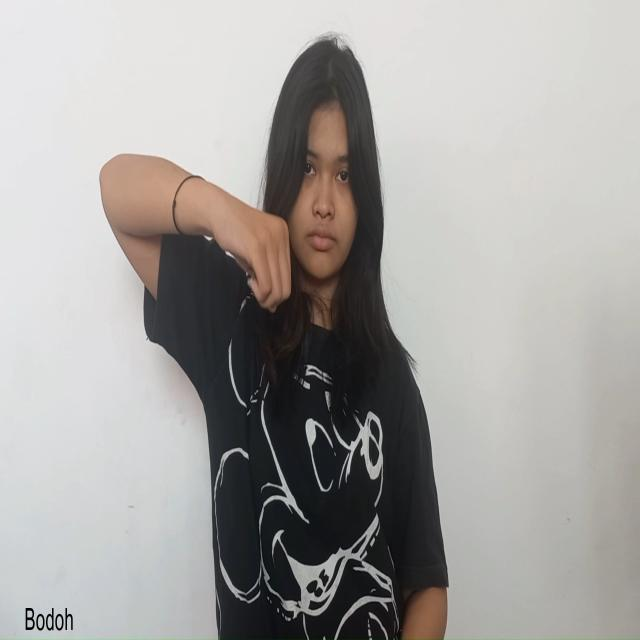Bodoh -BISINDO-: (212, 192, 294, 316)
